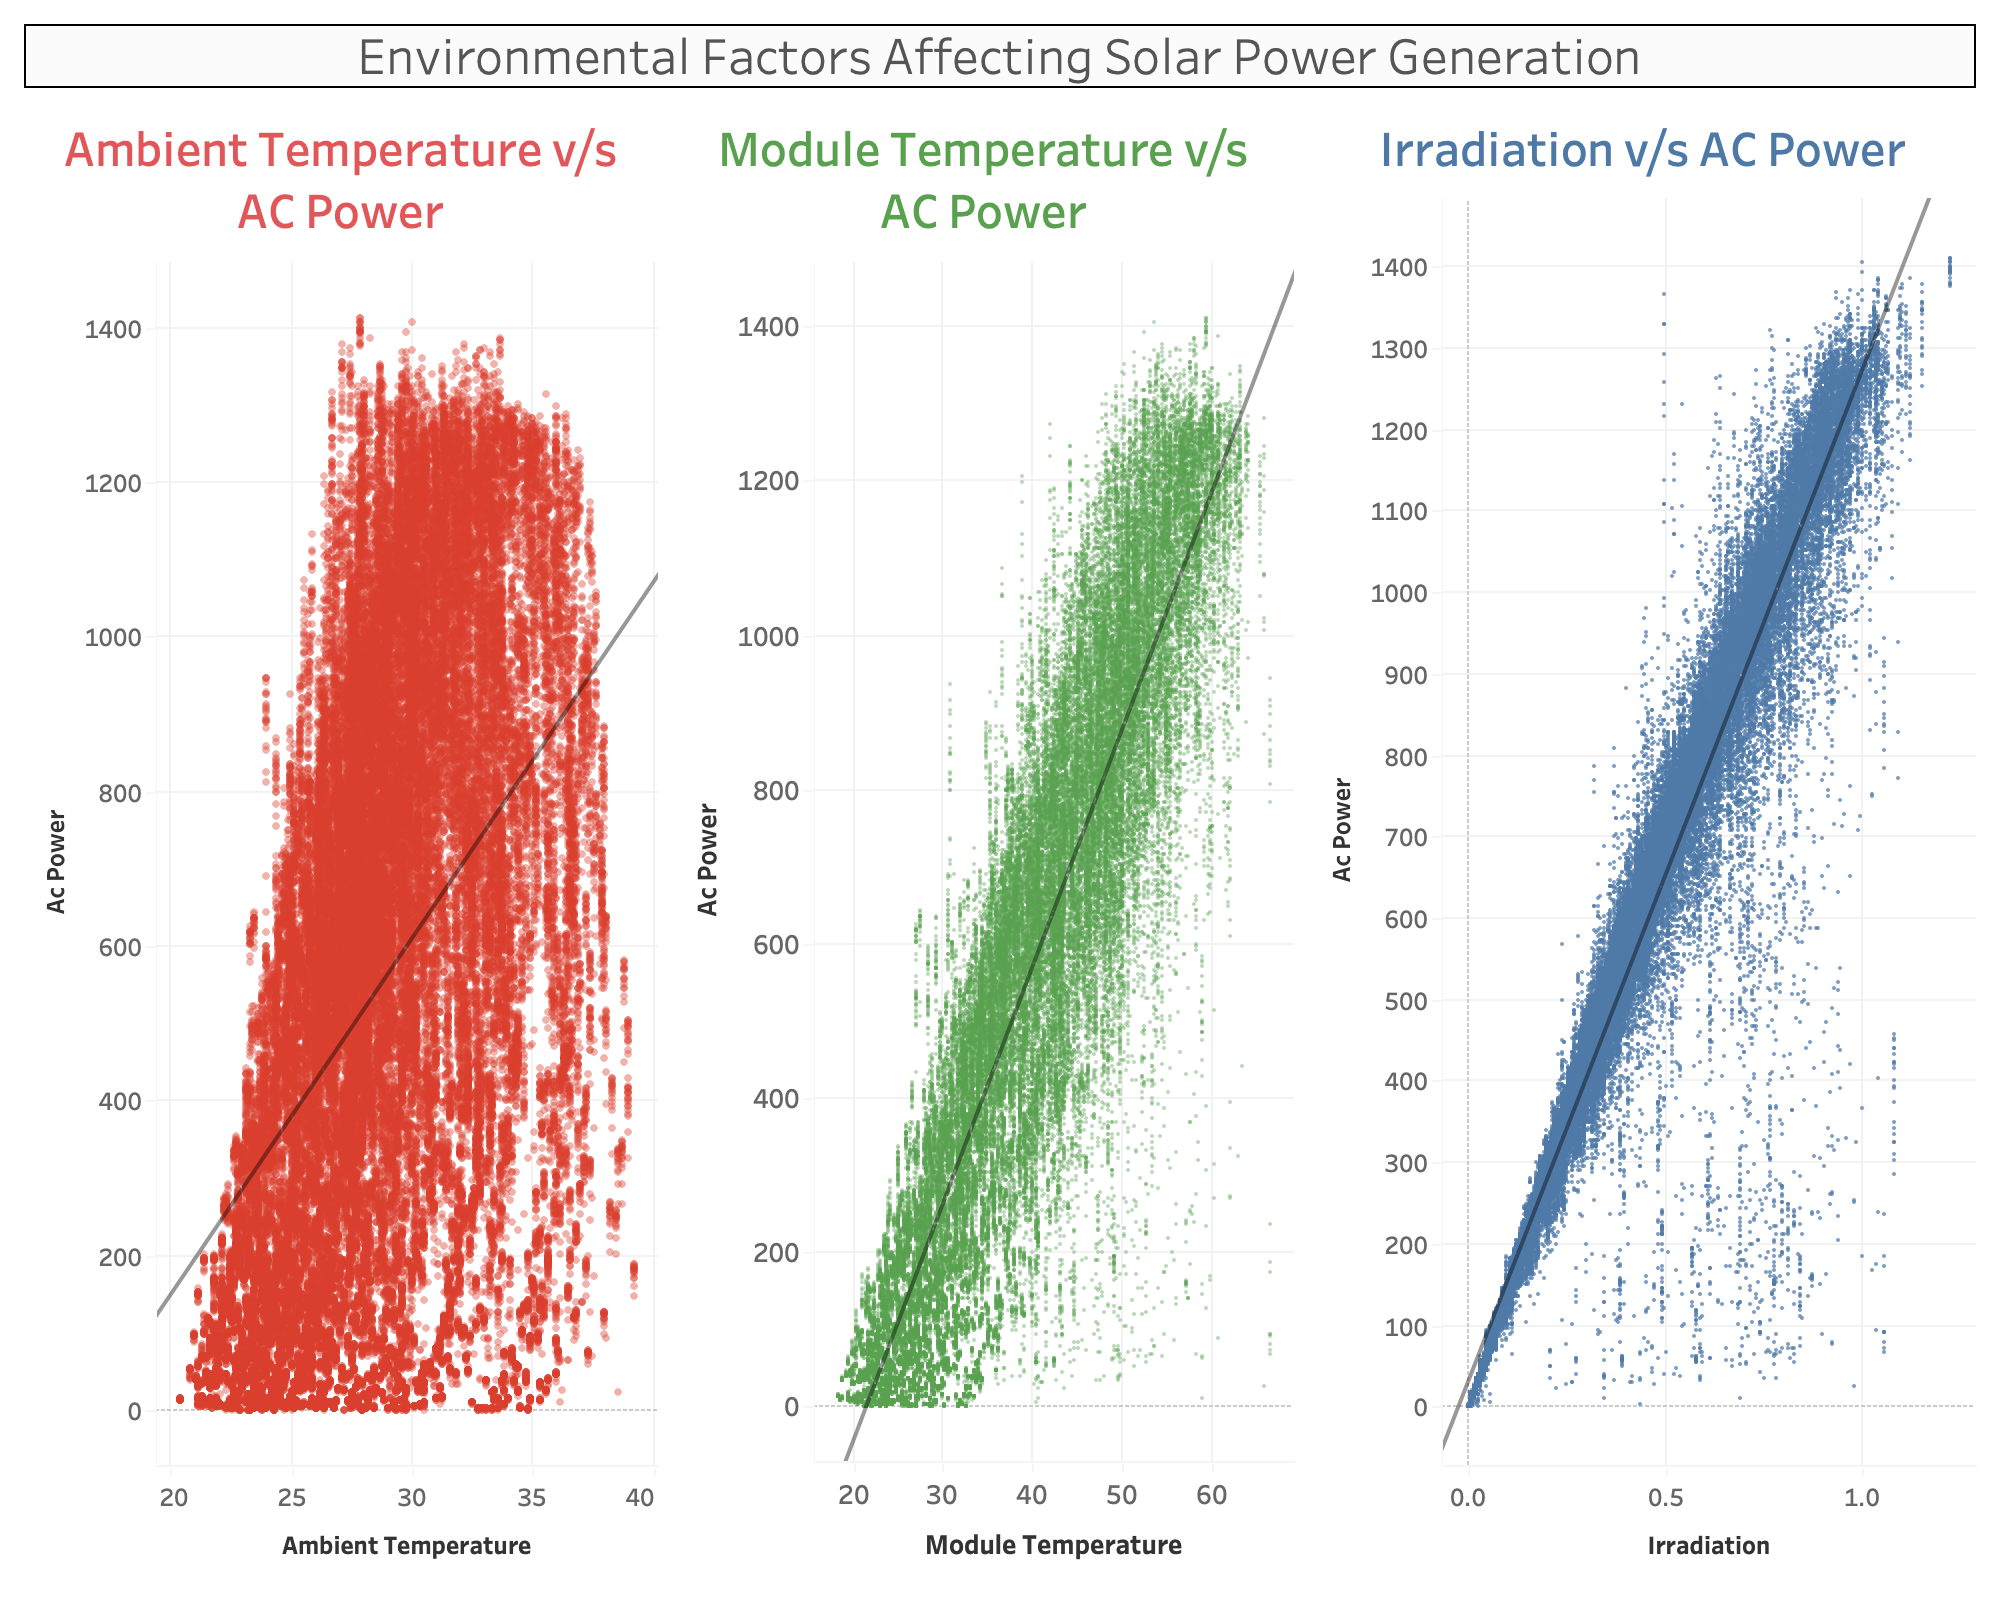

What the dashboard file says about the page in this screenshot:
{"tool":"tableau","page":{"name":"Environmental Analysis","canvas":[1000,800],"ordinal":0},"visuals":[{"type":"title","box":[8,8,984,40]},{"type":"worksheet","title":"Ambient Temperature - AC Power","mark":"Automatic","rows":["AC_POWER"],"cols":["AMBIENT_TEMPERATURE"],"box":[8,48,325,744]},{"type":"worksheet","title":"Module Temperature vs AC Power","mark":"Circle","rows":["AC_POWER"],"cols":["MODULE_TEMPERATURE"],"box":[333,48,318,744]},{"type":"worksheet","title":"Irradiation vs AC Power","mark":"Circle","rows":["AC_POWER"],"cols":["IRRADIATION"],"box":[651,48,341,744]}]}

Visuals, with their boxes in screenshot pixels (x1, y1, x2, y2), scaled from the page's 1000x800 canvas onto the 2000x1600 screenshot:
title: BBox(16, 16, 1984, 96)
"Ambient Temperature - AC Power" worksheet: BBox(16, 96, 666, 1584)
"Module Temperature vs AC Power" worksheet (Circle marks): BBox(666, 96, 1302, 1584)
"Irradiation vs AC Power" worksheet (Circle marks): BBox(1302, 96, 1984, 1584)
